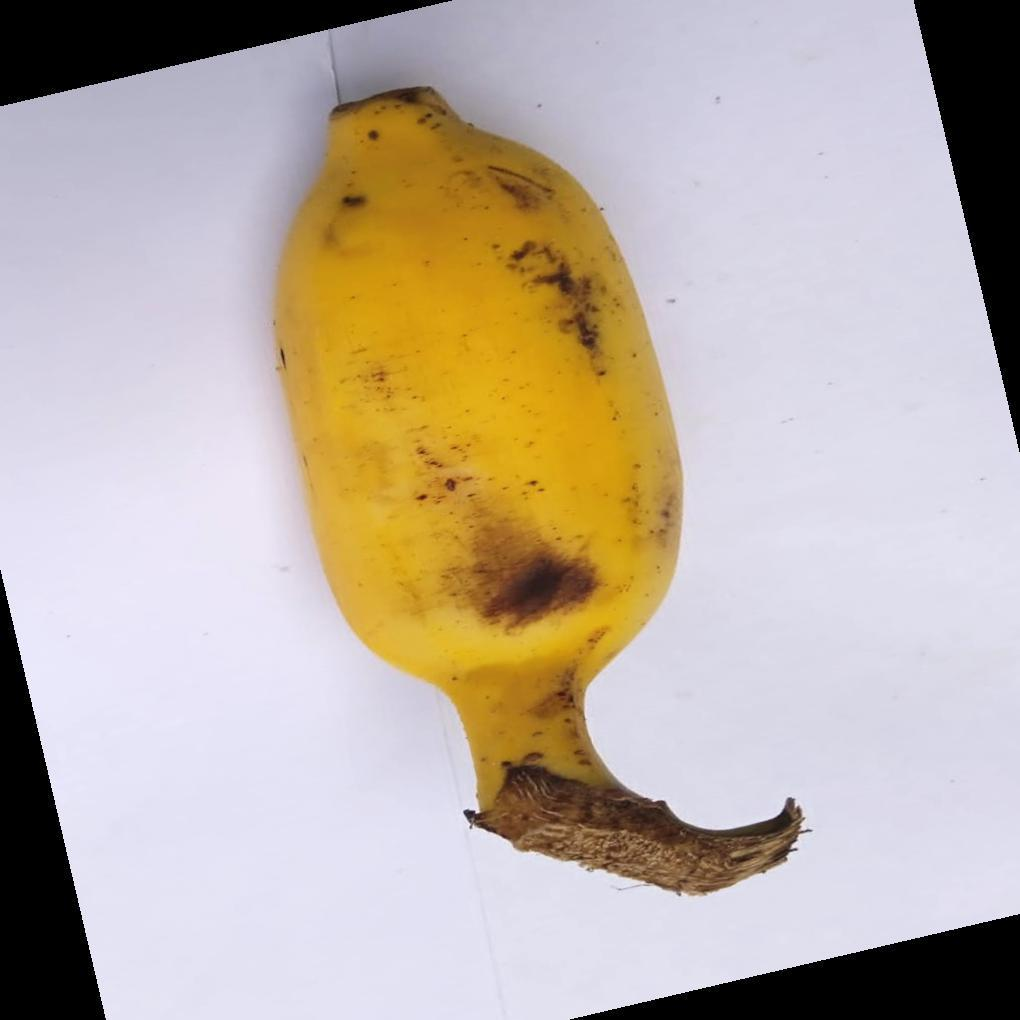Banana Ripe: (283, 71, 859, 926)
